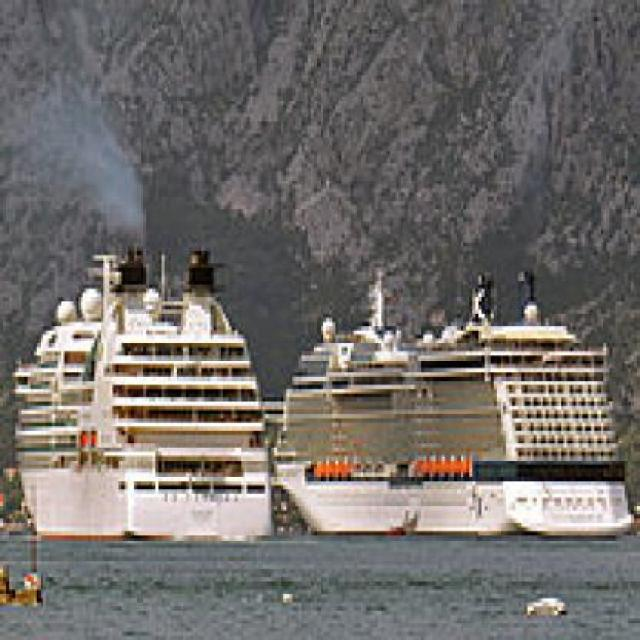cruise: (269, 256, 638, 557), (8, 231, 297, 549)
